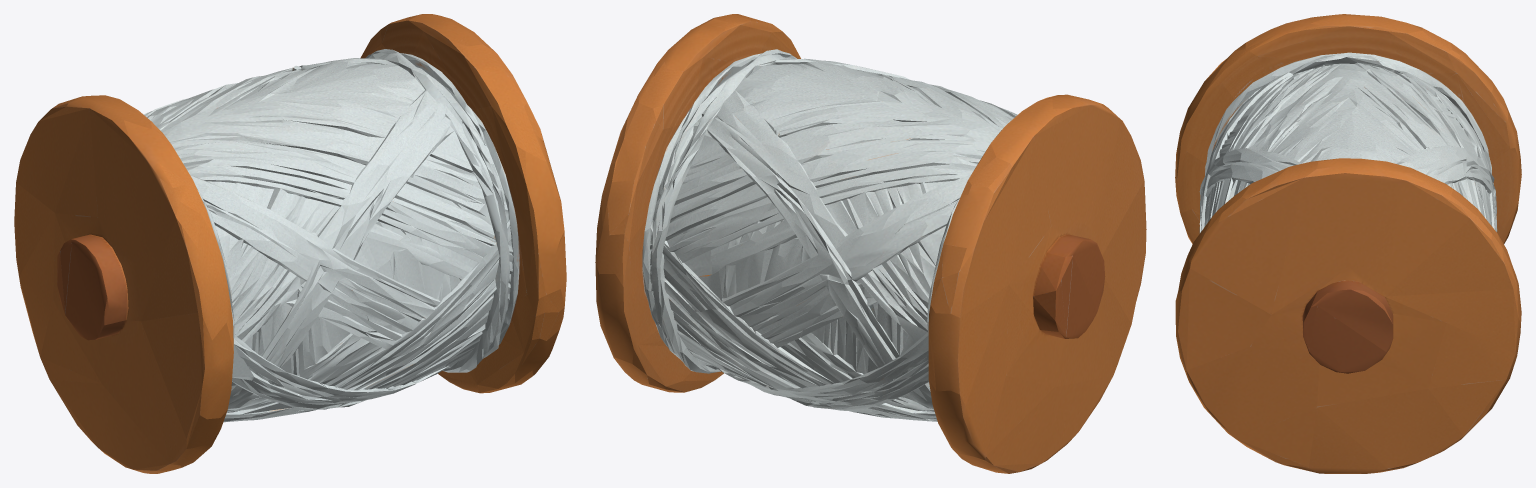
The model's file is ITM_SILK_THREAD_001.glb.
3 renders of one model, left to right at view 1: azimuth 30°, elevation 25°; view 2: azimuth 150°, elevation 25°; view 3: azimuth 270°, elevation 25°, orthographic. The views are drawn at different scales.
Bounding box in the file's own units: 1.9 × 1.49 × 1.52.
Materials: 1 (1 with a texture image).
